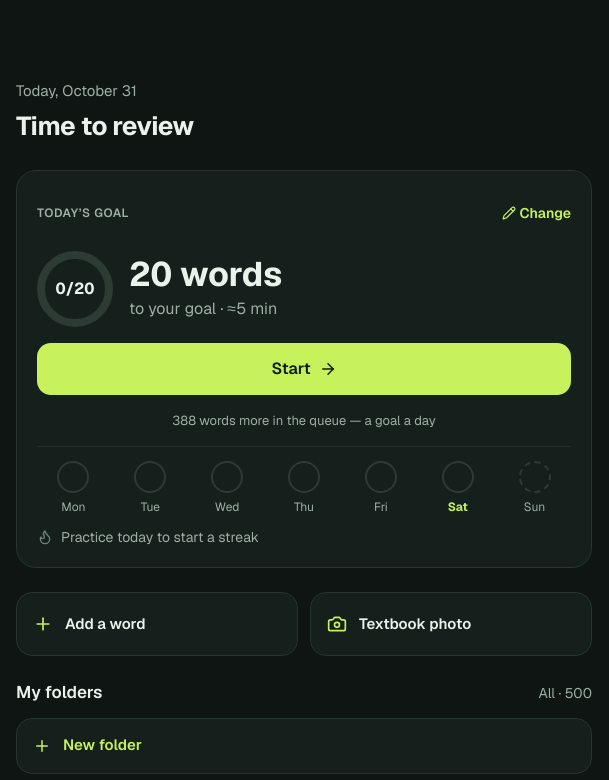
Scenario: ReviewSession: Home always starts a short session › Home → the button → a 20-question session; the saved size stays "all"
expect the text "20 words" is shown: met, box [129,256,282,290]
Click the button "Start".
click(304, 368)  # box [37,342,571,394]
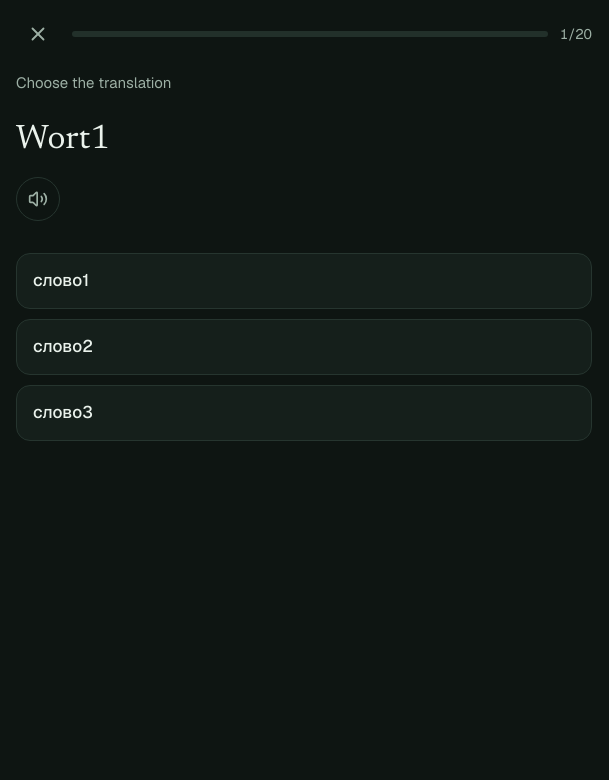
expect the text "1/20" is shown: met, box [560,24,592,44]
